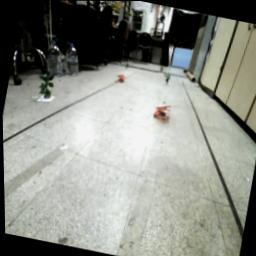herb: (34, 69, 59, 104), (163, 73, 171, 86)
wild: (152, 102, 173, 122), (114, 73, 127, 85)
